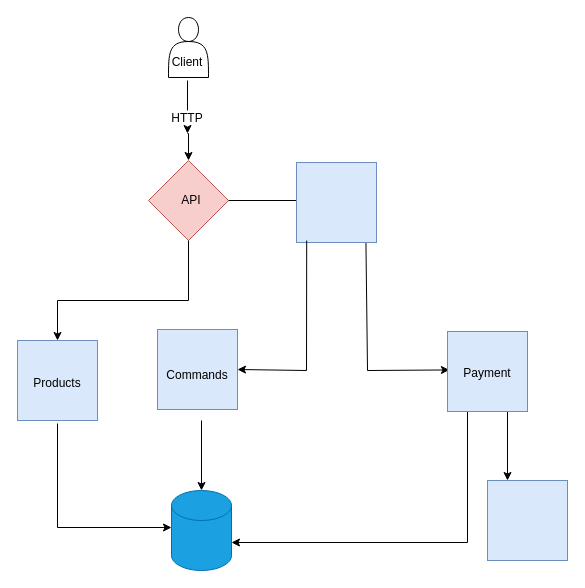
The diagram is 585 pixels wide and 588 high, and some of its shapes have lost their labels. The shapes that lost their labels are listed below. From the top down, each one's box as (x1, y1, x2, y2) in pixels, then its label:
(296, 162, 376, 242): Auth
(170, 490, 232, 570): Postgres
(486, 480, 568, 560): OM/MOMO API provider
